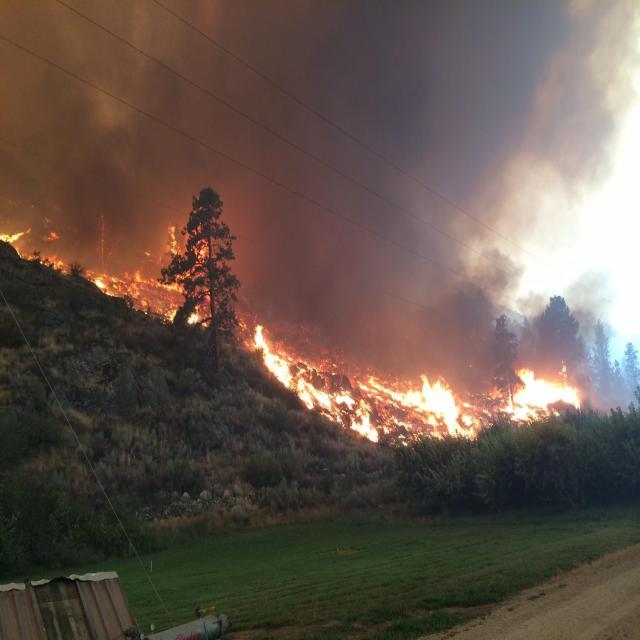Fire: (252, 314, 589, 448), (0, 206, 249, 332)
Smoke: (0, 0, 640, 205)
